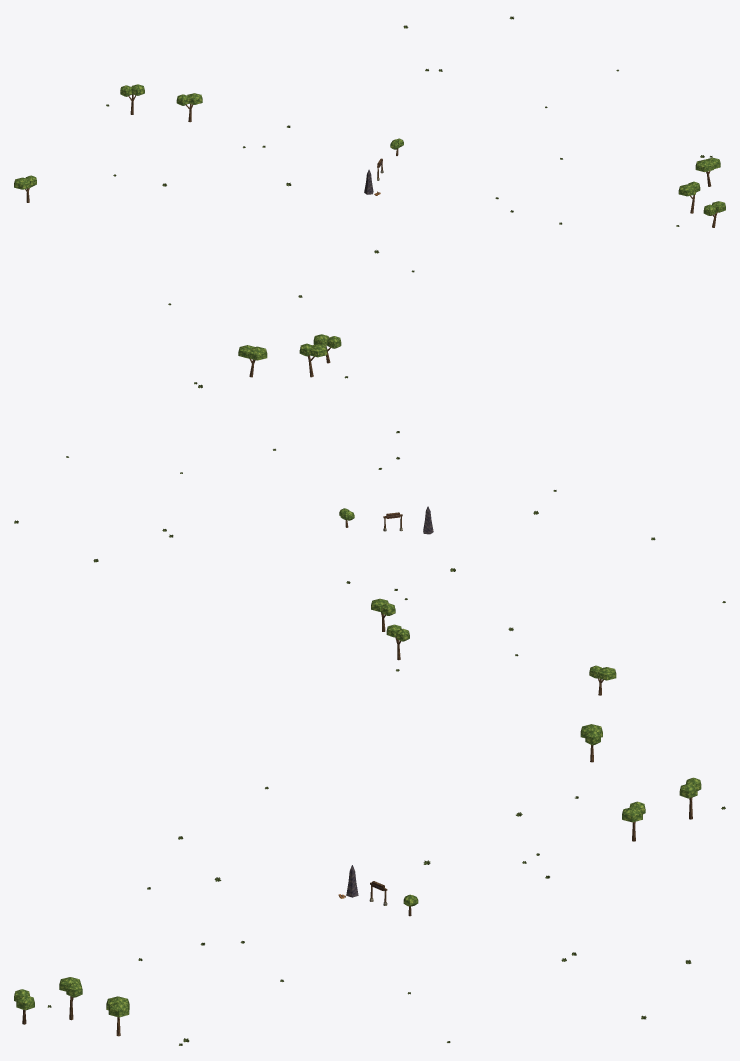
File: FieldCell_5_1.fbx
3 renders of one model, top to bottom at view 1: azimuth 30°, elevation 25°; view 2: azimuth 150°, elevation 25°; view 3: azimuth 270°, elevation 25°, orthographic. The views are drawn at different scales.
Parts seen in each view (by area): view 1: FieldCell_5_1; view 2: FieldCell_5_1; view 3: FieldCell_5_1.
Part boxes in pixels (<box>): FieldCell_5_1: <box>14,84,725,227</box>; FieldCell_5_1: <box>238,334,616,695</box>; FieldCell_5_1: <box>14,724,701,1036</box>.
Bounding box in the file's own units: 15576 × 1907 × 13592.
